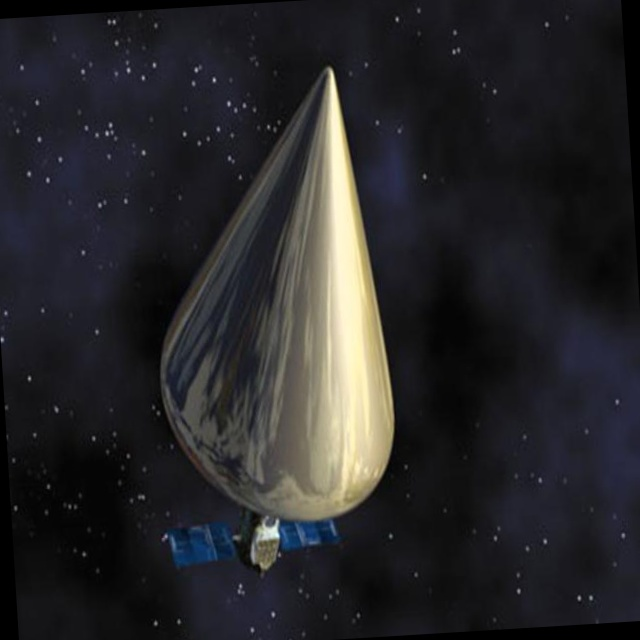medium_debris: (121, 50, 417, 592)
